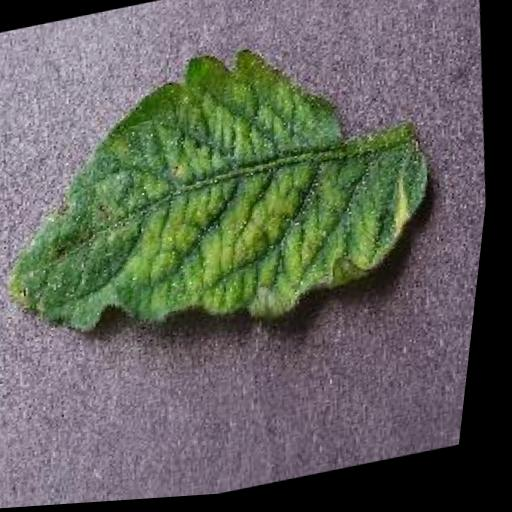Mosaic Virus: (0, 6, 472, 376)
